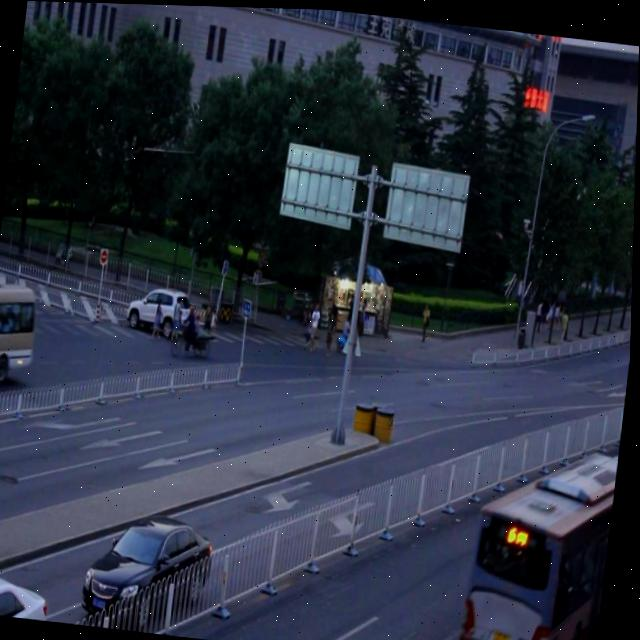car: (82, 508, 219, 635), (128, 282, 194, 337), (0, 566, 56, 621)
truck: (0, 277, 42, 381)
van: (454, 427, 621, 640)
